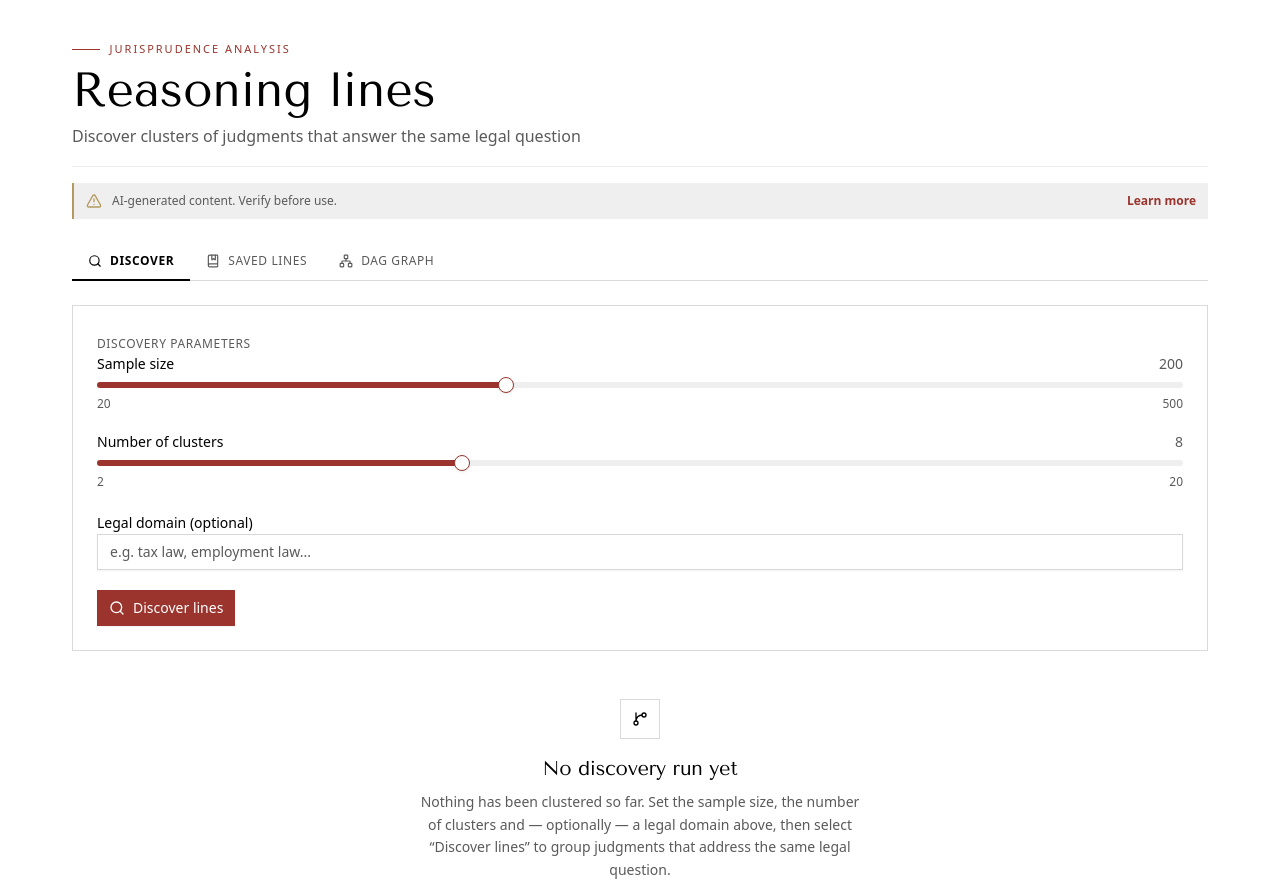
Test: reasoning-lines admin-only controls › shows save and event detection controls to an admin user
Click the button "Discover lines". click: (166, 608)
box: [97,590,235,626]
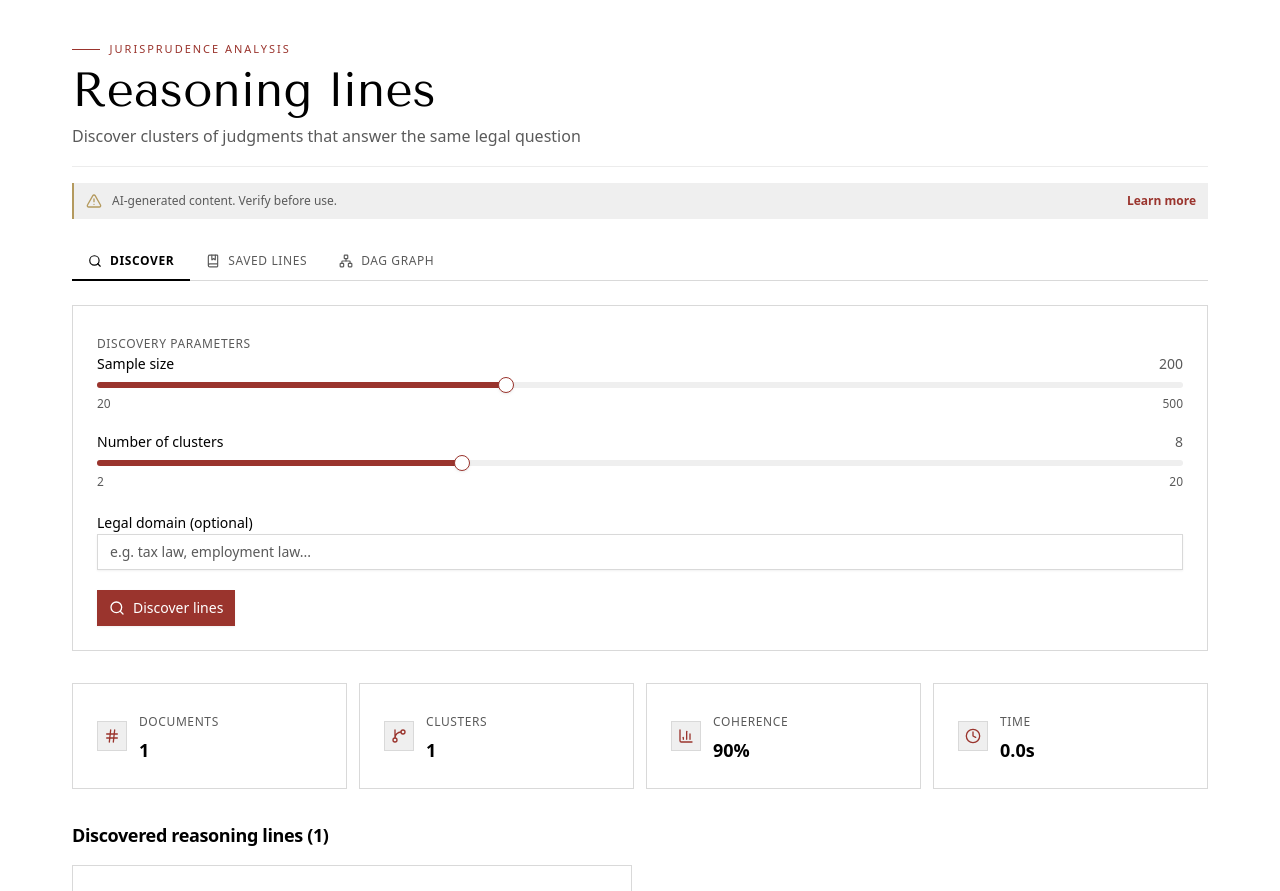
Click the tab "DAG graph". click: (387, 262)
box: [323,243,450,281]
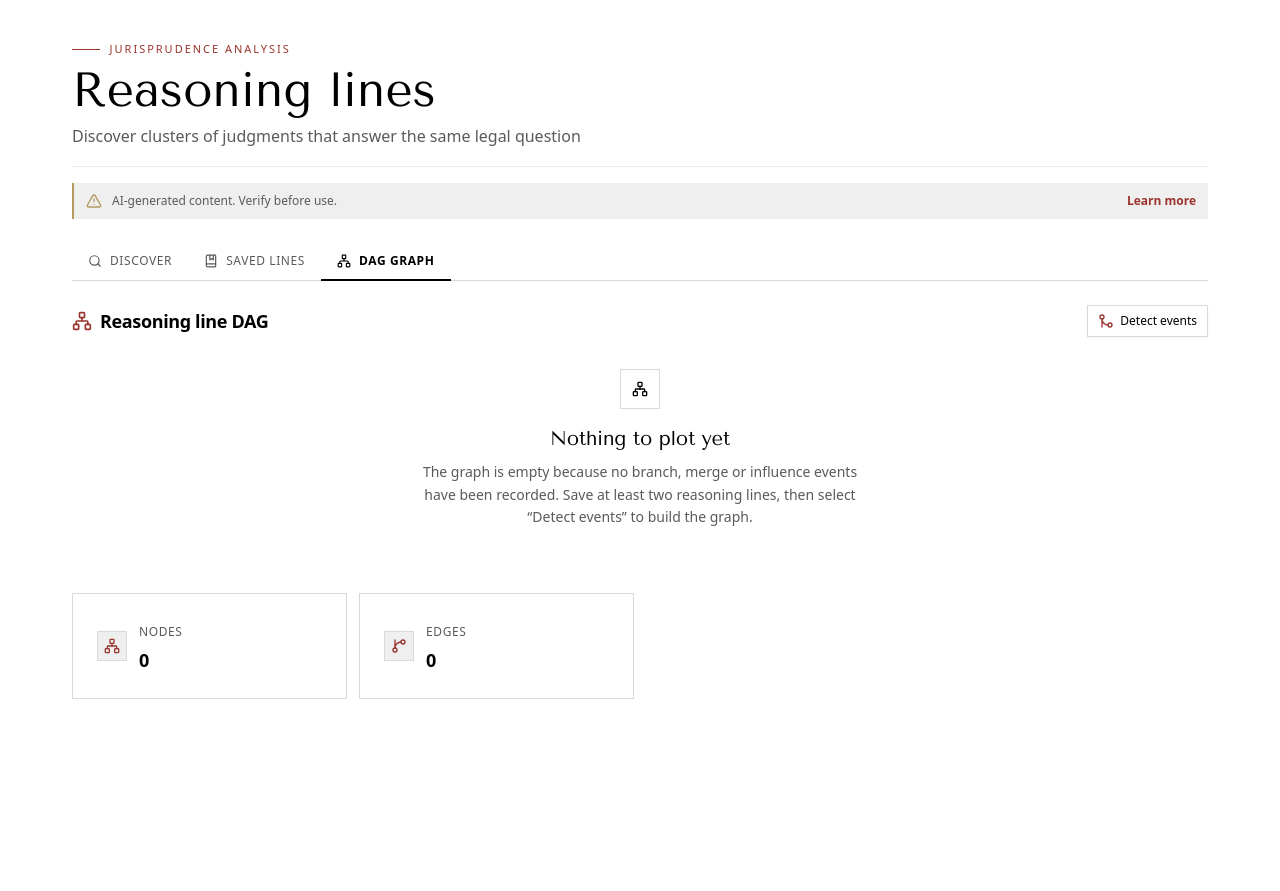
Result: the button "Detect events" is shown at [1087,305,1208,337]
